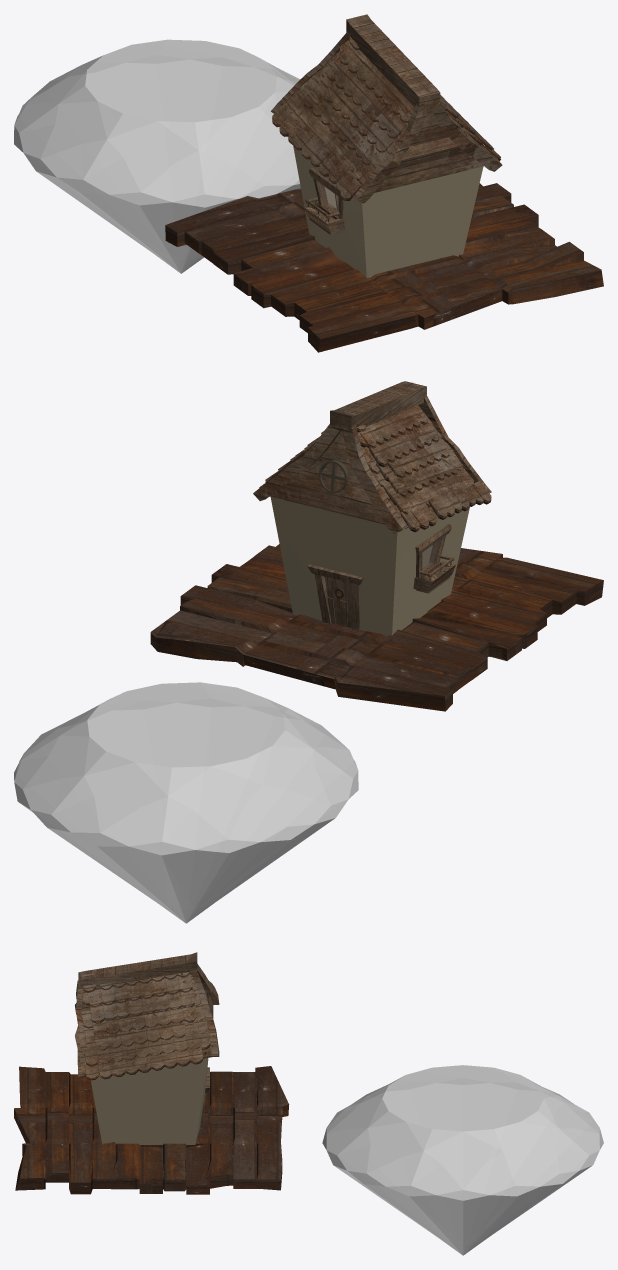
The model's file is Cabin.fbx.
3 renders of one model, top to bottom at view 1: azimuth 30°, elevation 25°; view 2: azimuth 150°, elevation 25°; view 3: azimuth 270°, elevation 25°, orthographic. The views are drawn at different scales.
Parts seen in each view (by area): view 1: pasted__pCone1, pasted__pasted__floor2, pasted__pCube33, pasted__pCube98, pasted__pCube93; view 2: pasted__pCone1, pasted__pasted__floor2, pasted__pCube33, pasted__pCube98, pasted__pCube94; view 3: pasted__pCone1, pasted__pasted__floor2, pasted__pCube33, pasted__pCube98.
Part boxes in pixels (<box>): pasted__pCone1: <box>14,39,300,273</box>; pasted__pasted__floor2: <box>165,183,603,352</box>; pasted__pCube33: <box>293,145,483,277</box>; pasted__pCube98: <box>271,14,502,203</box>; pasted__pCube93: <box>303,203,344,233</box>; pasted__pCone1: <box>14,682,358,923</box>; pasted__pasted__floor2: <box>150,544,603,711</box>; pasted__pCube33: <box>270,497,469,636</box>; pasted__pCube98: <box>253,381,491,533</box>; pasted__pCube94: <box>324,576,351,627</box>; pasted__pCone1: <box>322,1065,603,1255</box>; pasted__pasted__floor2: <box>14,1066,289,1194</box>; pasted__pCube33: <box>90,1058,208,1144</box>; pasted__pCube98: <box>75,952,219,1078</box>.
Bounding box in the file's own units: 65.05 × 75.86 × 133.
